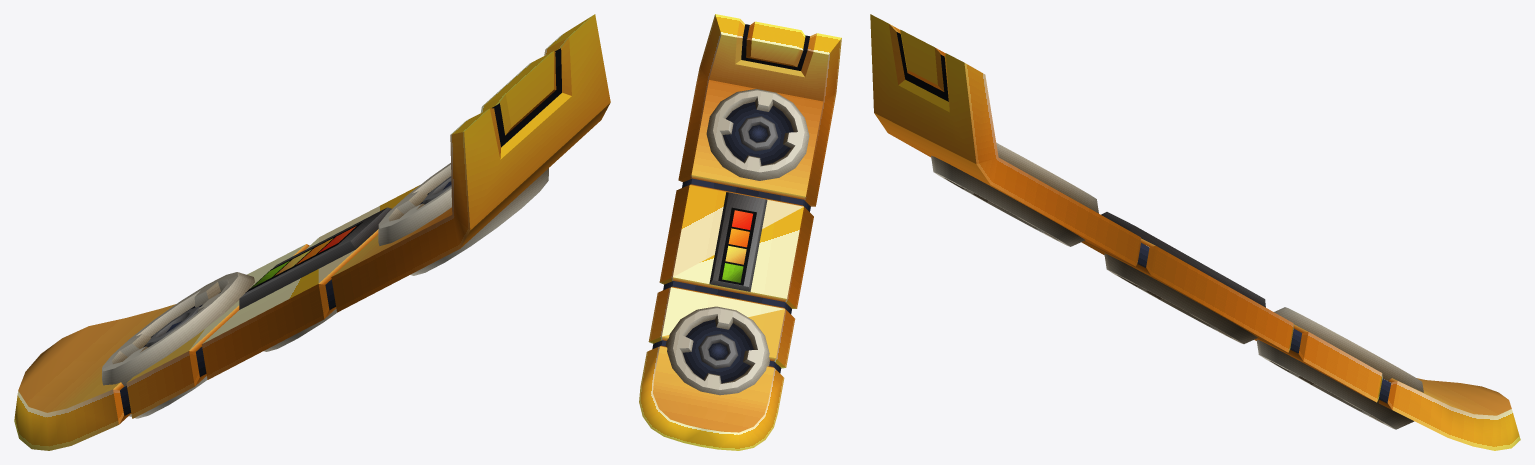
The model's file is WelcomePackBoardPrize.glb.
3 views of the same model, side by side, from view 1: azimuth 30°, elevation 25°; view 2: azimuth 150°, elevation 25°; view 3: azimuth 270°, elevation 25° (orthographic). The views are drawn at different scales.
Visible parts, largest first — view 1: starterPackBoard01; view 2: starterPackBoard01, StarterpackHUD_03, StarterpackHUD_04, StarterpackHUD_02; view 3: starterPackBoard01.
Part boxes in pixels (x1,y1,x2,y2): starterPackBoard01: (14, 14, 610, 450); starterPackBoard01: (639, 14, 841, 450); StarterpackHUD_03: (722, 228, 749, 282); StarterpackHUD_04: (732, 210, 752, 229); StarterpackHUD_02: (725, 245, 746, 264); starterPackBoard01: (870, 14, 1520, 450).
Bounding box in the file's own units: 5.22 × 7.56 × 9.03.
Materials: 1 (1 with a texture image).
